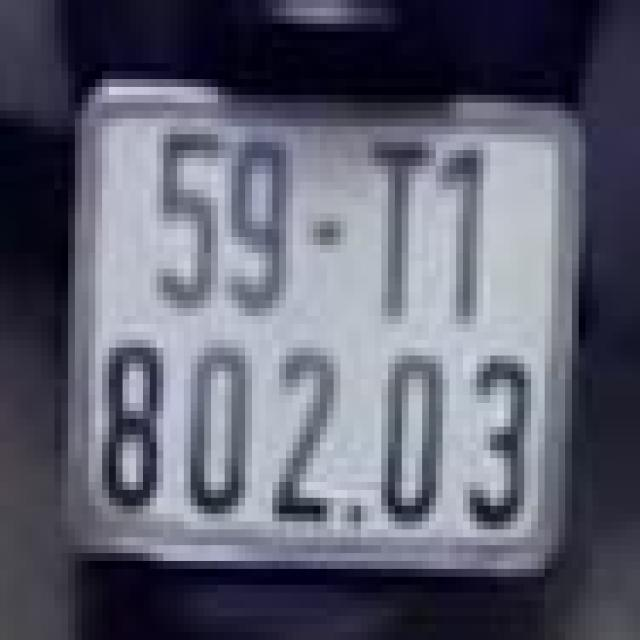0: (177, 332, 259, 529), (371, 340, 453, 529)
1: (436, 130, 497, 336)
2: (266, 340, 347, 529)
3: (460, 344, 534, 541)
5: (146, 122, 228, 328)
8: (99, 336, 167, 517)
9: (224, 122, 300, 328)
T: (361, 130, 436, 328)
